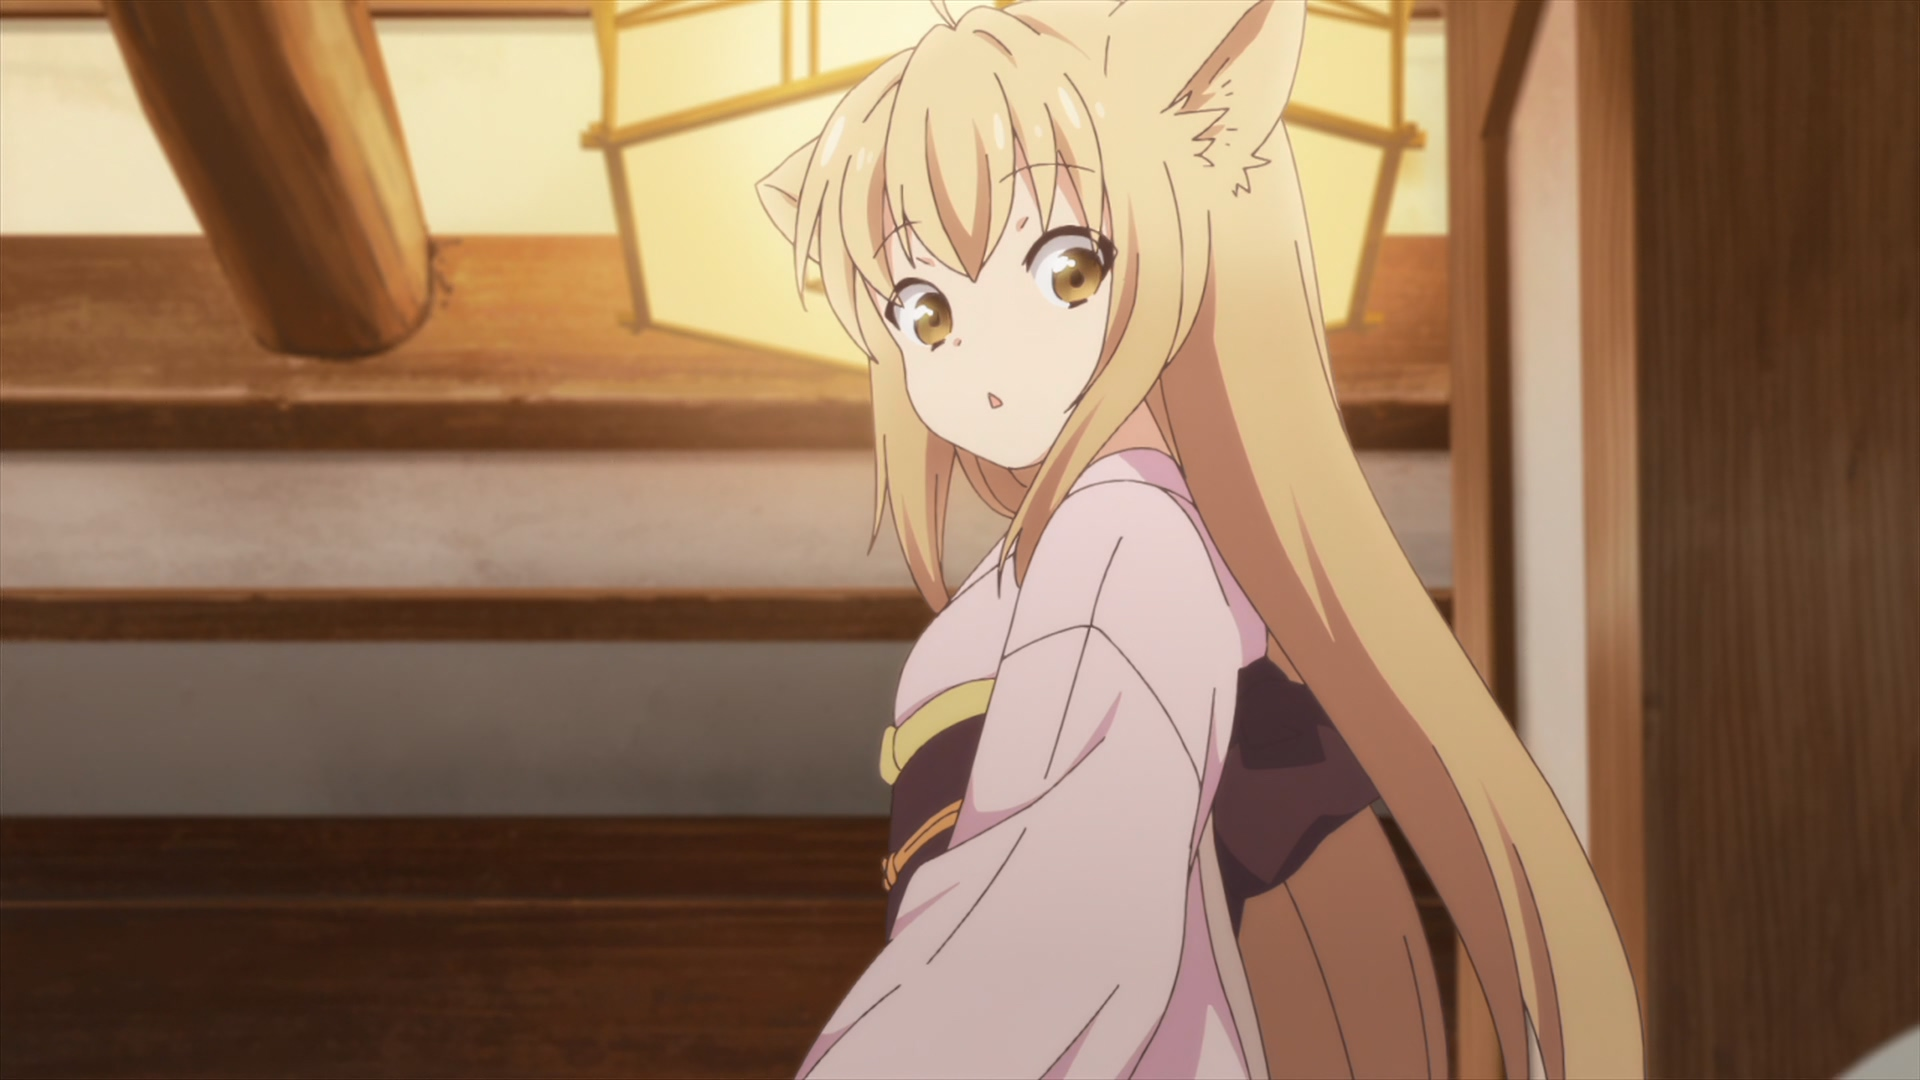柚: (757, 1, 1640, 1080)
